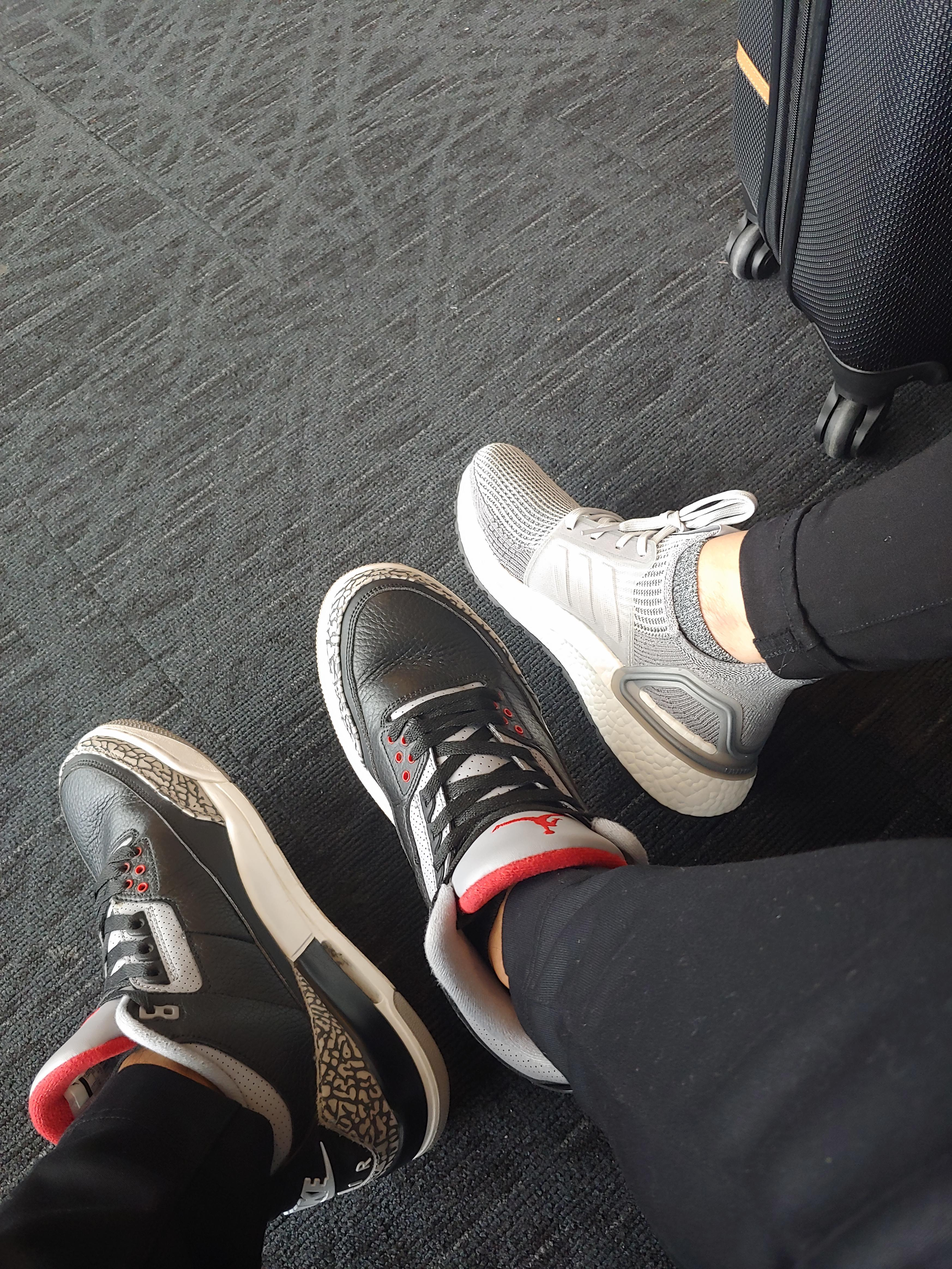sneaker: (1, 700, 456, 1235), (303, 548, 671, 1109), (437, 422, 824, 842)
